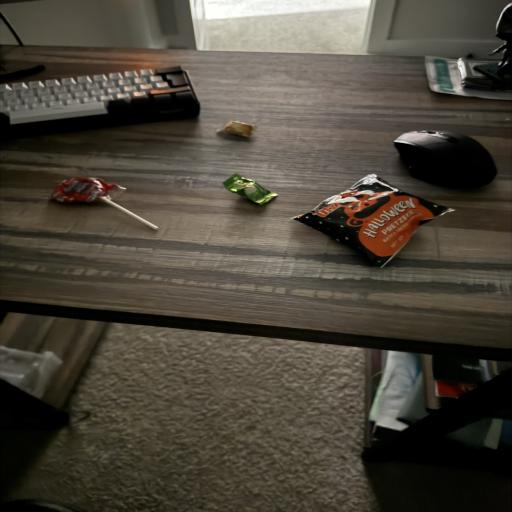chocolate: (294, 174, 453, 267), (51, 177, 125, 204), (224, 174, 278, 204), (217, 121, 254, 138)
mouse: (395, 131, 496, 188)
